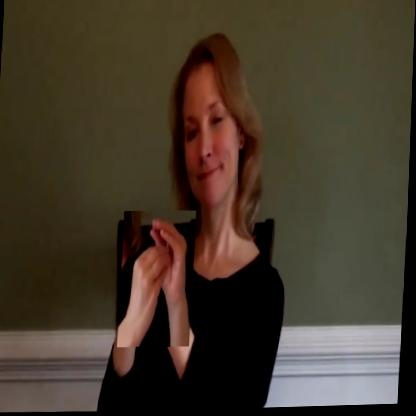Fix: (119, 210, 197, 349)
